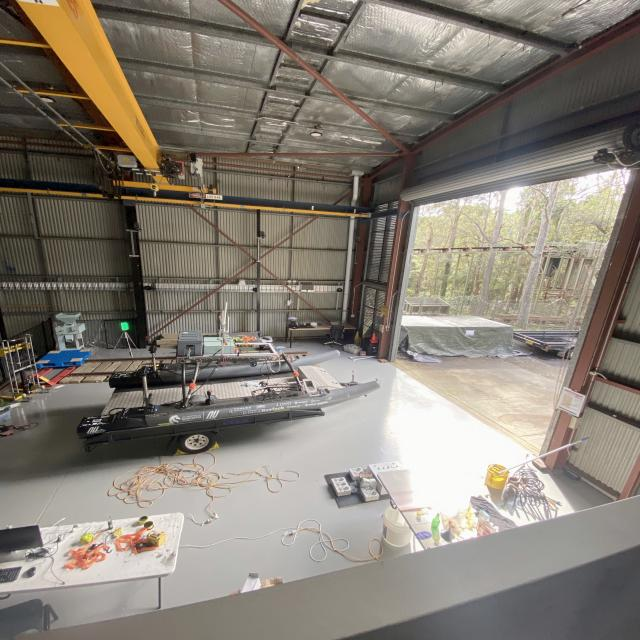matrix: (120, 322, 132, 331)
